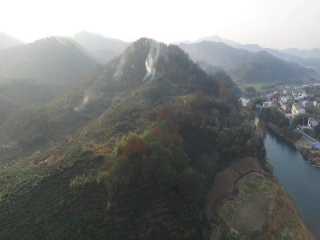smoke: (142, 39, 166, 85)
